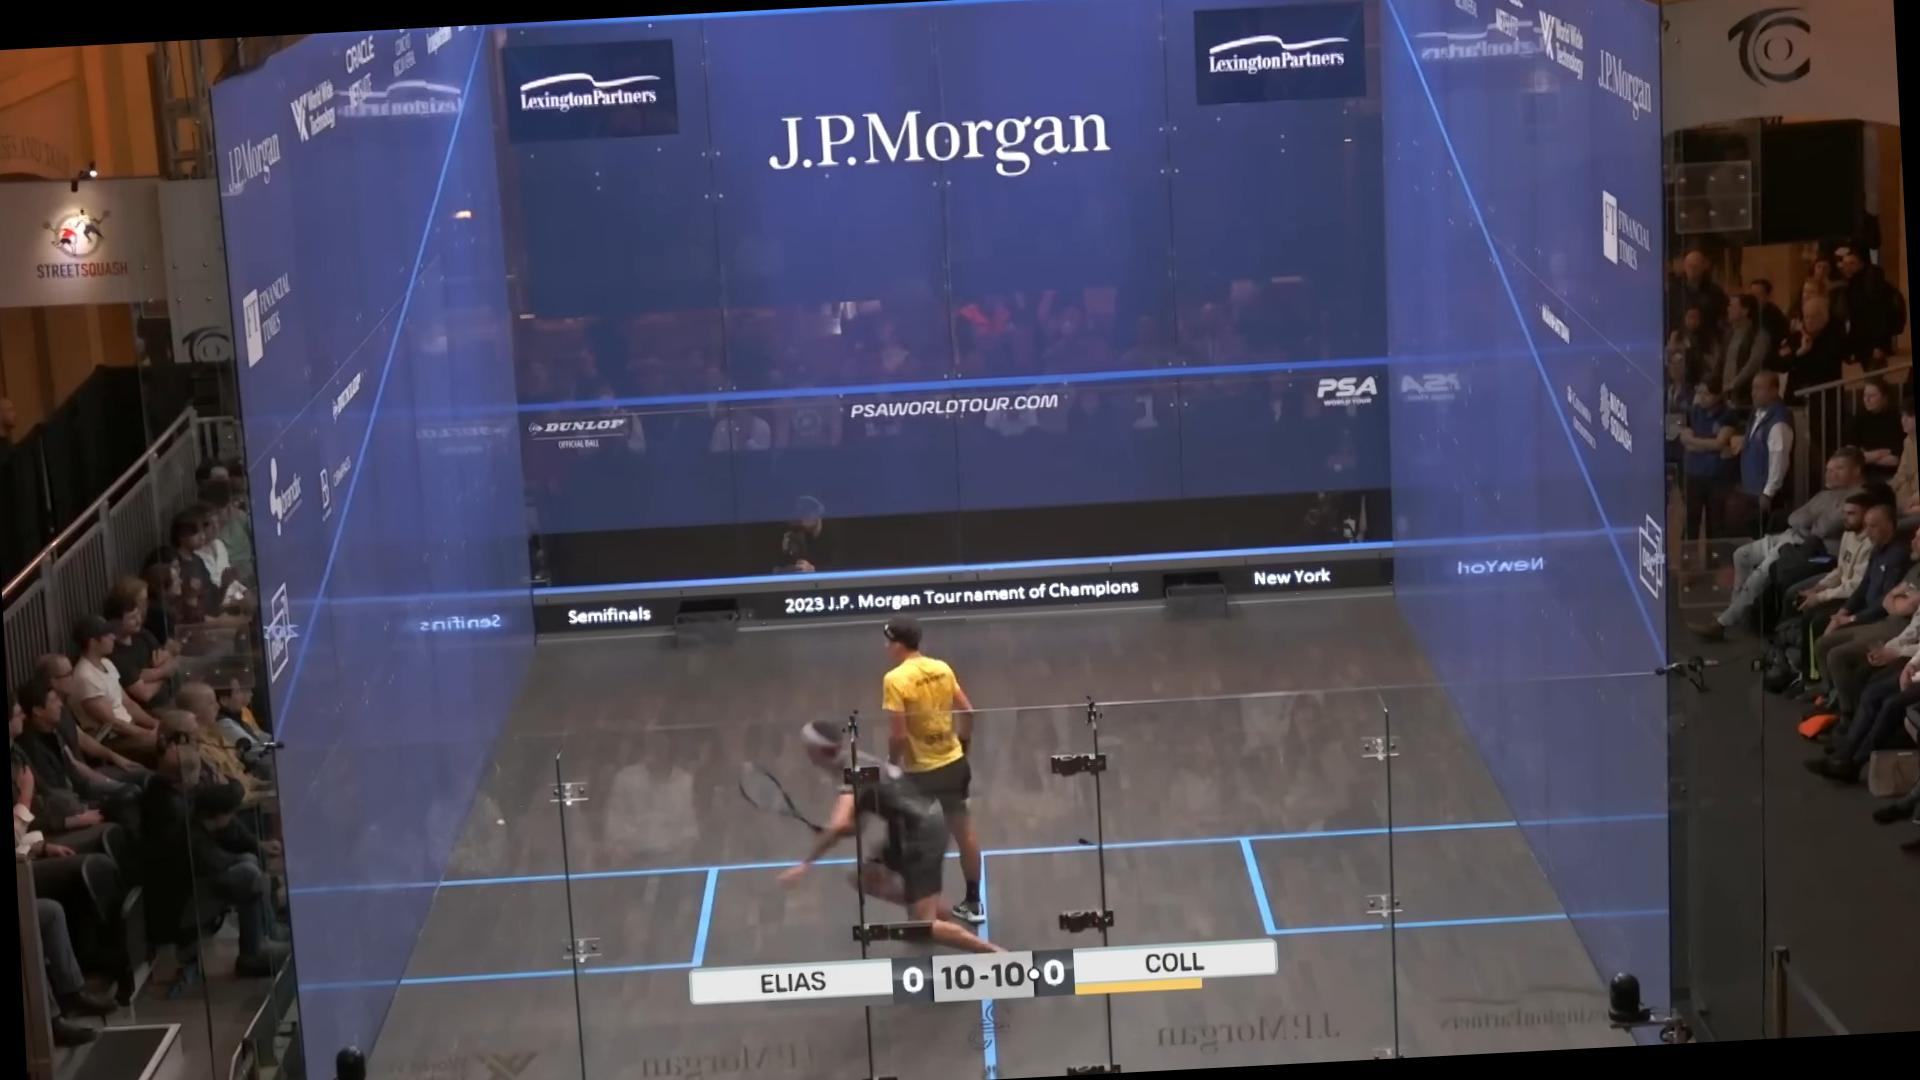Racket: (729, 746, 829, 839)
